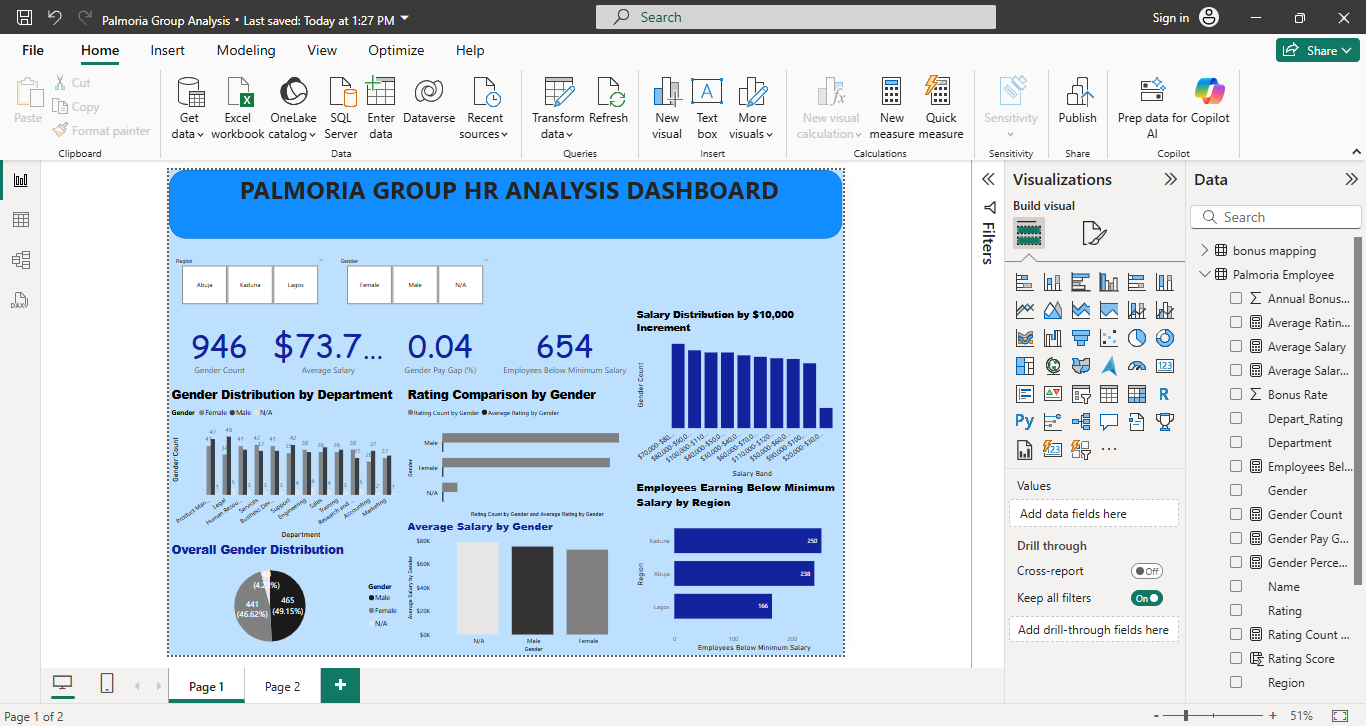

This screenshot's page, from the dashboard's own definition file:
{"tool":"powerbi","page":{"name":"Page 1","canvas":[1320,950],"ordinal":0},"visuals":[{"type":"clusteredColumnChart","title":"Gender Distribution by Department ","fields":{"Y":["Palmoria Employee.Gender Count"],"Series":["Palmoria Employee.Gender"],"Category":["Palmoria Employee.Department"]},"box":[0,422.6,461.9,304.8],"z":0},{"type":"pieChart","title":"Overall Gender Distribution","fields":{"Category":["Palmoria Employee.Gender"],"Y":["Palmoria Employee.Gender Count"]},"box":[0,727.5,461.9,222.5],"z":1000},{"type":"clusteredBarChart","title":"Rating Comparison by Gender","fields":{"Category":["Palmoria Employee.Gender"],"Y":["Palmoria Employee.Rating Count by Gender","Palmoria Employee.Average Rating by Gender"]},"box":[461.9,422.6,450.7,261.8],"z":2000},{"type":"clusteredColumnChart","title":"Average Salary by Gender","fields":{"Category":["Palmoria Employee.Gender"],"Y":["Palmoria Employee.Average Salary by Gender"]},"box":[461.9,684.4,450.7,265.6],"z":3000},{"type":"clusteredBarChart","title":"Employees  Earning Below Minimum Salary by Region","fields":{"Y":["Palmoria Employee.Employees Below Minimum Salary"],"Category":["Palmoria Employee.Region"]},"box":[912.6,607.8,407.7,342.2],"z":4000},{"type":"clusteredColumnChart","title":"Salary Distribution by $10,000 Increment","fields":{"Category":["Palmoria Employee.Salary Band"],"Y":["Palmoria Employee.Gender Count"]},"box":[912.6,269.3,407.7,338.5],"z":5000},{"type":"card","fields":{"Values":["Palmoria Employee.Employees Below Minimum Salary"]},"box":[639.6,282.4,273,140.3],"z":6000},{"type":"card","fields":{"Values":["Palmoria Employee.Gender Pay Gap (%)"]},"box":[426.4,282.4,213.2,140.3],"z":7000},{"type":"card","fields":{"Values":["Palmoria Employee.Average Salary"]},"box":[198.2,282.4,228.1,140.3],"z":8000},{"type":"card","fields":{"Values":["Palmoria Employee.Gender Count"]},"box":[0,282.4,198.2,140.3],"z":9000},{"type":"slicer","fields":{"Values":["Palmoria Employee.Region"]},"box":[0,166.4,316,102.9],"z":10000},{"type":"slicer","fields":{"Values":["Palmoria Employee.Gender"]},"box":[323.5,166.4,316,102.9],"z":11000},{"type":"shape","box":[0,0,1320.3,134.6],"z":12000},{"type":"textbox","box":[13.1,0,1307.2,134.6],"z":13000}]}

Visuals, with their boxes on the page's 1320x950 design canvas (x1, y1, x2, y2). These are canvas units, not pixel positions in the 1366x726 screenshot, which may show the page scaled, cropped or inside an application window:
"Gender Distribution by Department " clusteredColumnChart: (0,423,462,727)
"Overall Gender Distribution" pieChart: (0,728,462,950)
"Rating Comparison by Gender" clusteredBarChart: (462,423,913,684)
"Average Salary by Gender" clusteredColumnChart: (462,684,913,950)
"Employees  Earning Below Minimum Salary by Region" clusteredBarChart: (913,608,1320,950)
"Salary Distribution by $10,000 Increment" clusteredColumnChart: (913,269,1320,608)
card - Palmoria Employee.Employees Below Minimum Salary: (640,282,913,423)
card - Palmoria Employee.Gender Pay Gap (%): (426,282,640,423)
card - Palmoria Employee.Average Salary: (198,282,426,423)
card - Palmoria Employee.Gender Count: (0,282,198,423)
slicer - Palmoria Employee.Region: (0,166,316,269)
slicer - Palmoria Employee.Gender: (324,166,640,269)
shape: (0,0,1320,135)
textbox: (13,0,1320,135)
